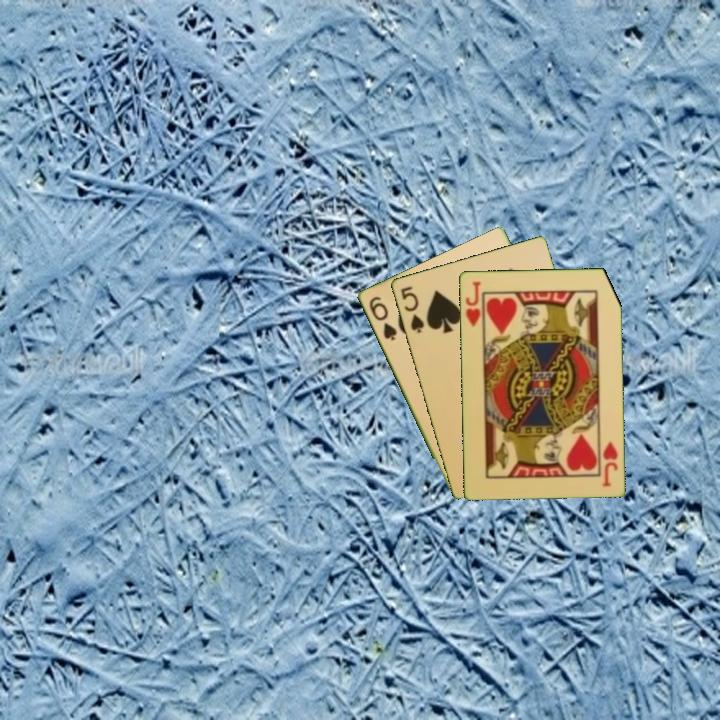5s: (397, 282, 427, 336)
6s: (365, 292, 399, 344)
Jh: (462, 278, 486, 333), (598, 438, 620, 489)
